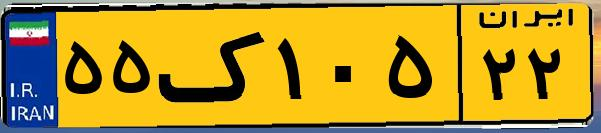0: (330, 28, 385, 110)
1: (270, 28, 330, 110)
2: (475, 38, 525, 113), (525, 38, 570, 115)
5: (385, 28, 445, 110), (57, 26, 110, 100), (110, 28, 158, 98)
ک: (158, 12, 270, 120)
